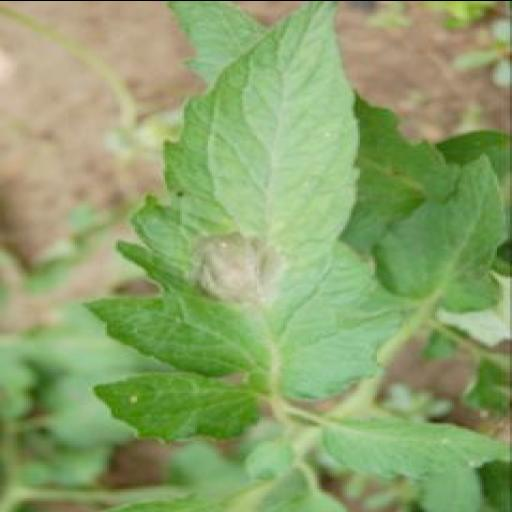disease_tomato: (78, 0, 408, 401)
